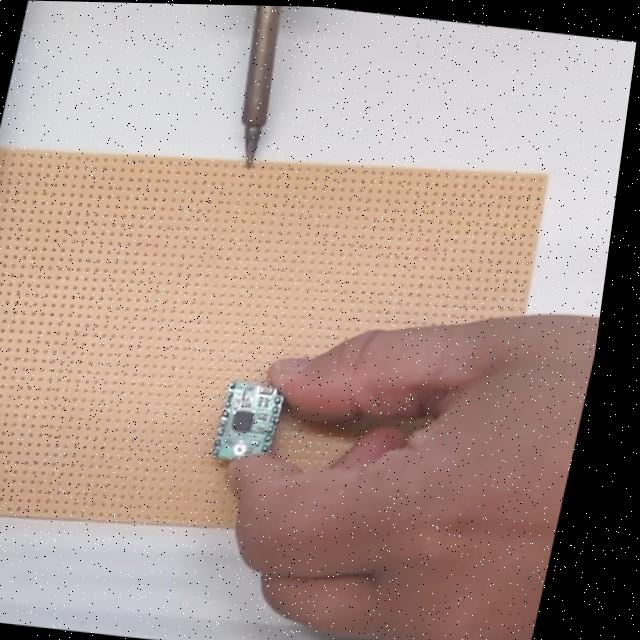Chip: (212, 381, 284, 465)
soldering_iron: (203, 5, 300, 174)
